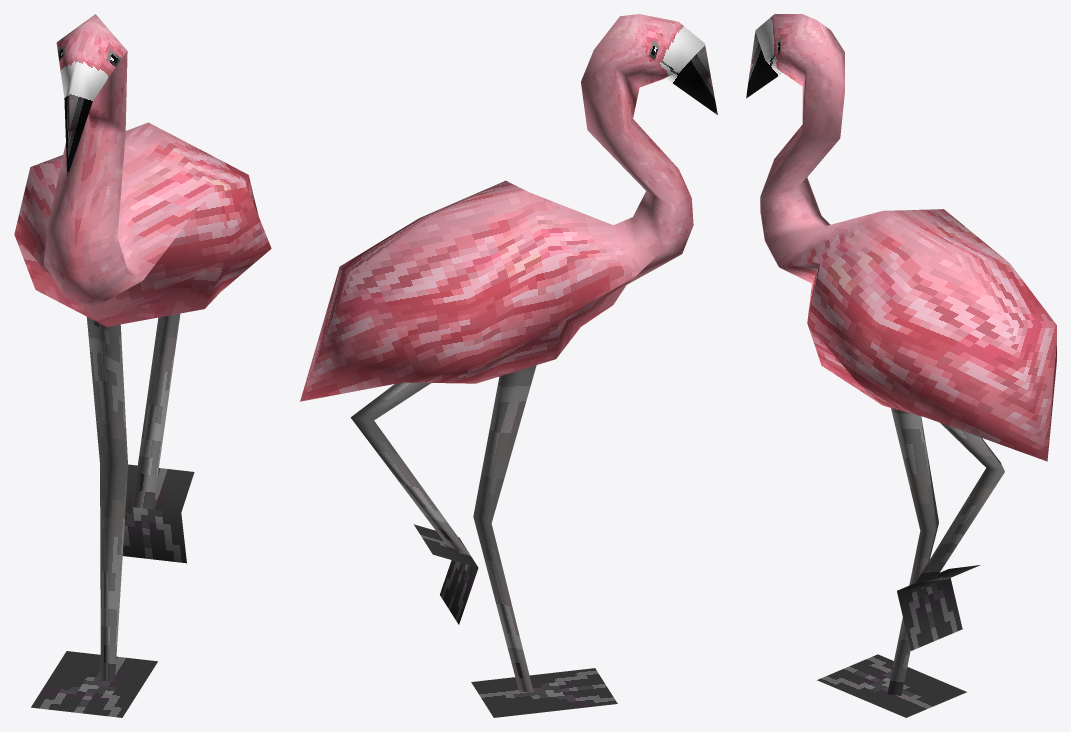
File: int_gdn_flamingo02.dae
3 views of the same model, side by side, from view 1: azimuth 30°, elevation 25°; view 2: azimuth 150°, elevation 25°; view 3: azimuth 270°, elevation 25° (orthographic). The views are drawn at different scales.
Parts seen in each view (by area): view 1: int_gdn_flamingo02; view 2: int_gdn_flamingo02; view 3: int_gdn_flamingo02.
Boxes of the visible parts, left/top/right/bottom form: int_gdn_flamingo02: left=14, top=14, right=271, bottom=717; int_gdn_flamingo02: left=300, top=14, right=717, bottom=717; int_gdn_flamingo02: left=746, top=14, right=1056, bottom=717.
Size of the model in its own units: 18.67 by 42.95 by 18.67.
Materials: 1 (1 with a texture image).
